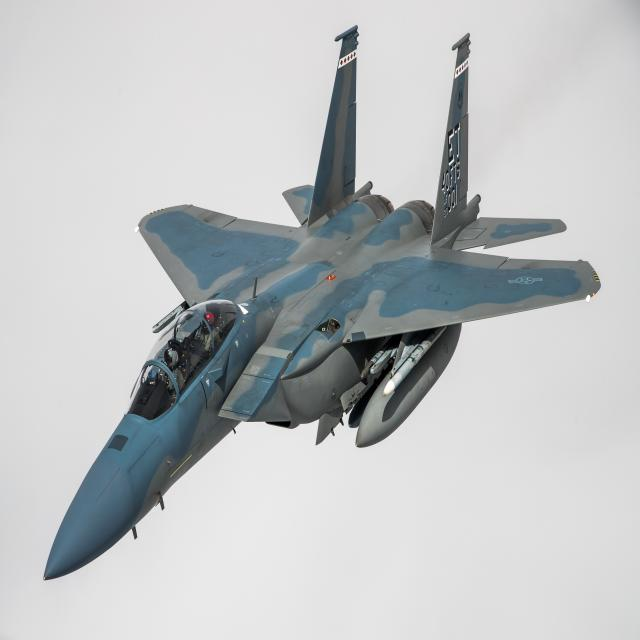F15: (9, 0, 616, 592)
